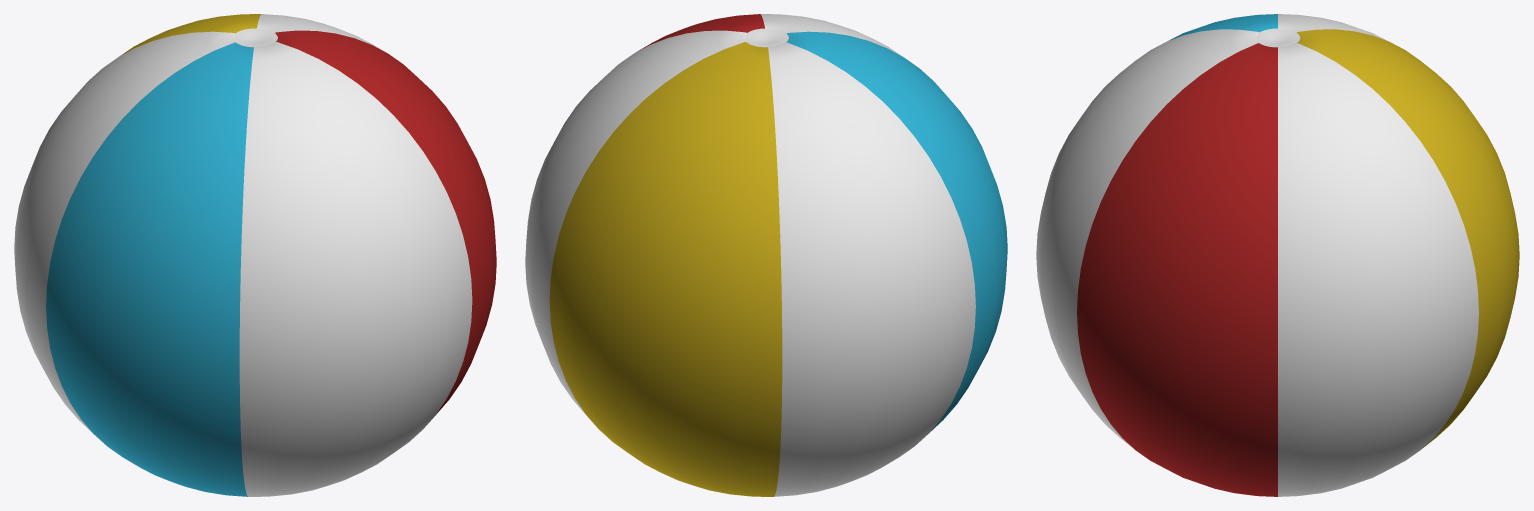
Rendered from beachBall.gltf.
3 views of the same model, side by side, from view 1: azimuth 30°, elevation 25°; view 2: azimuth 150°, elevation 25°; view 3: azimuth 270°, elevation 25° (orthographic).
Visible parts, largest first — view 1: Sphere; view 2: Sphere; view 3: Sphere.
Part boxes in pixels (bbox=[...]): Sphere: bbox=[14, 14, 496, 496]; Sphere: bbox=[525, 14, 1007, 496]; Sphere: bbox=[1036, 14, 1519, 496].
Bounding box in the file's own units: 2 × 1.99 × 2.
